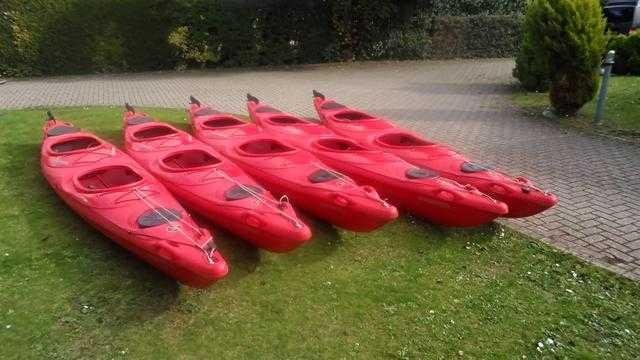kayak: (246, 98, 510, 226), (38, 114, 230, 290), (185, 96, 398, 234), (122, 105, 312, 254), (311, 89, 464, 155), (185, 97, 262, 144)
